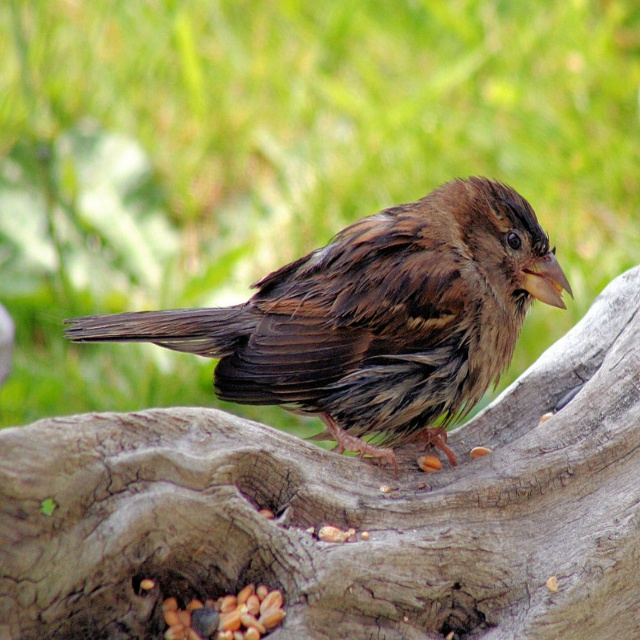Sparrow: (63, 173, 575, 480)
